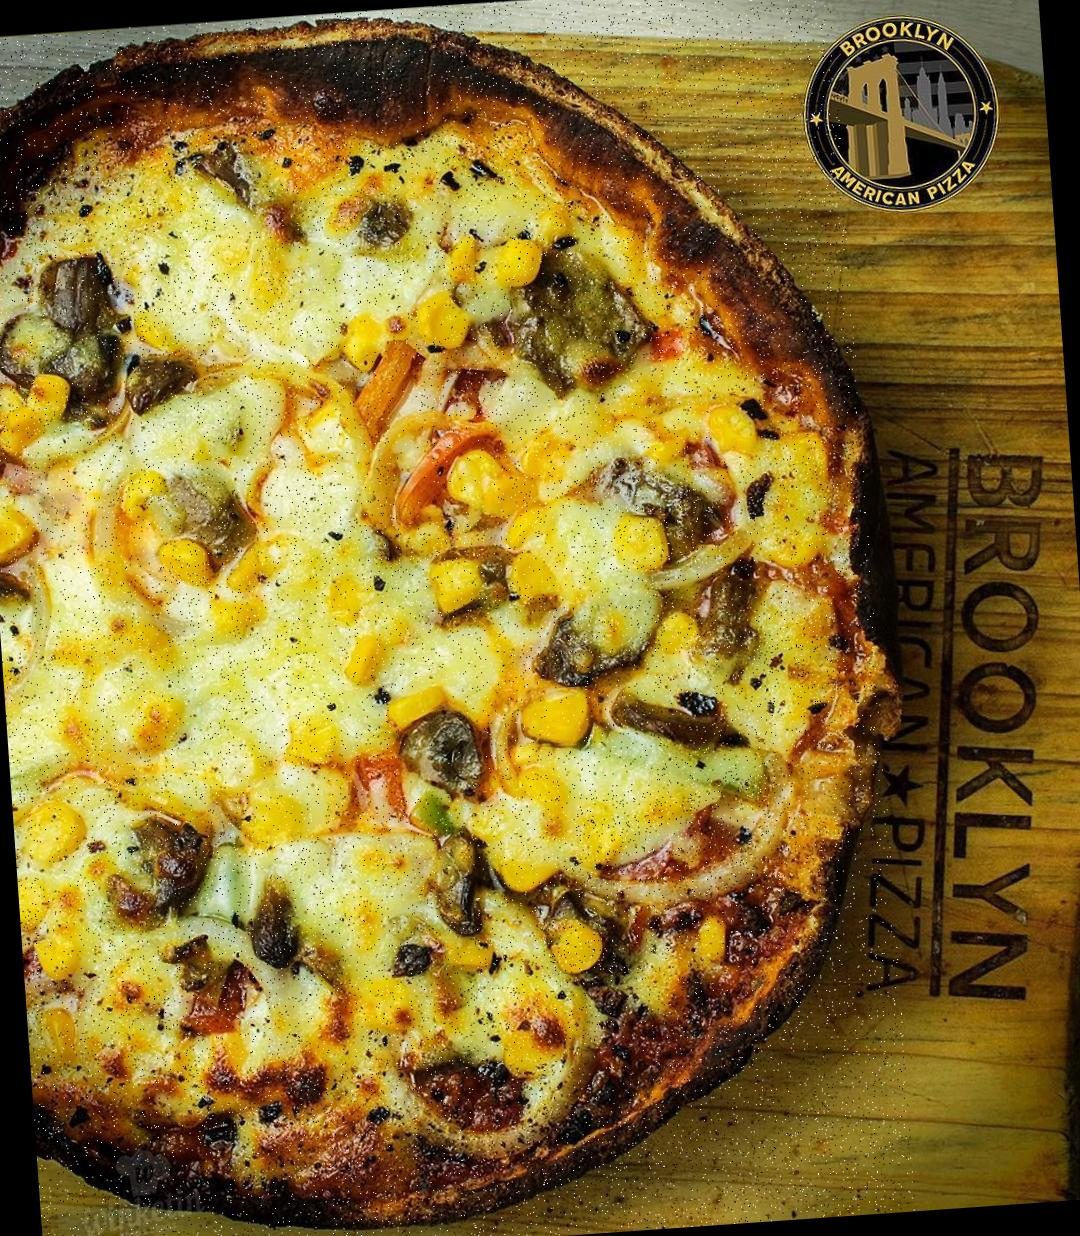Corn: (443, 444, 565, 556), (439, 228, 549, 296), (0, 370, 74, 455), (12, 801, 90, 868), (522, 686, 591, 747), (754, 514, 821, 575), (543, 914, 607, 975), (240, 785, 302, 843), (416, 290, 476, 348), (611, 514, 672, 571), (709, 396, 762, 459), (344, 309, 392, 374), (285, 714, 347, 763), (33, 938, 88, 985), (651, 609, 702, 660), (160, 536, 211, 585), (0, 502, 41, 561), (388, 686, 453, 720), (330, 571, 369, 624), (133, 306, 182, 349), (345, 630, 379, 686), (17, 879, 51, 929), (118, 470, 160, 510)
Mushroom: (610, 453, 714, 555), (396, 706, 489, 798)
Onion: (568, 781, 799, 903)
Peppers: (390, 419, 497, 524), (348, 339, 419, 428)
Pizza: (0, 0, 915, 1236)
